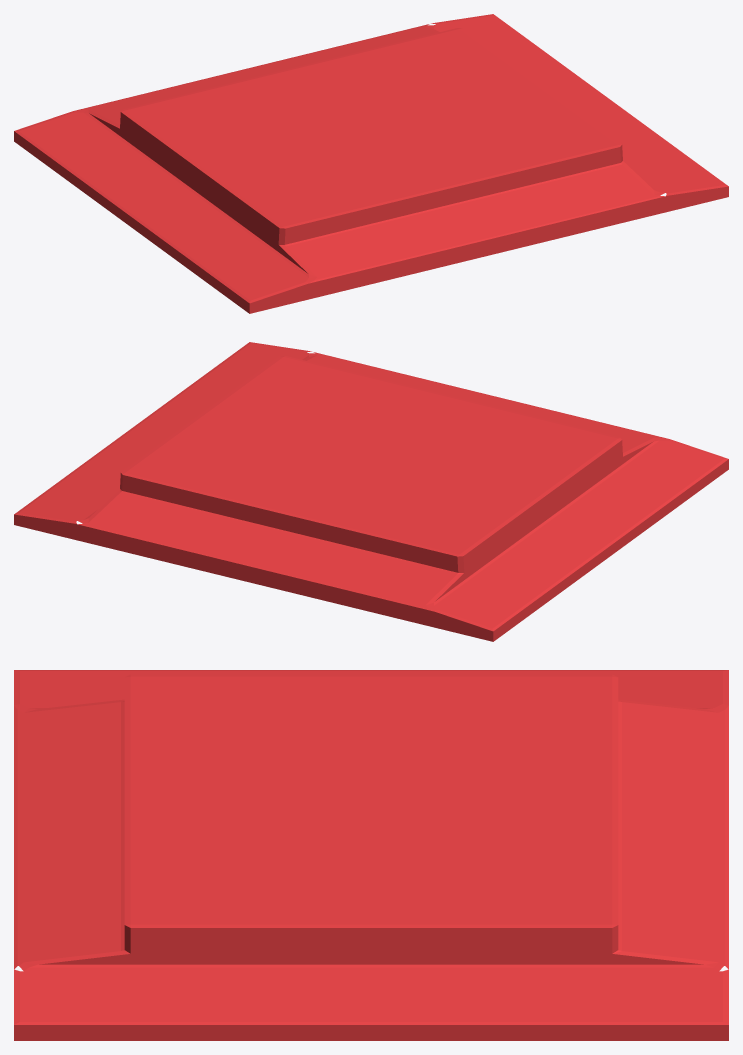
The model's file is monument_floor.gltf.
3 views of the same model, one above another, from view 1: azimuth 30°, elevation 25°; view 2: azimuth 150°, elevation 25°; view 3: azimuth 270°, elevation 25° (orthographic). The views are drawn at different scales.
Visible parts, largest first — view 1: Glass-Promontory; view 2: Glass-Promontory; view 3: Glass-Promontory.
Part boxes in pixels (box(x1,y1,x2,y2)): Glass-Promontory: box(14, 14, 728, 313); Glass-Promontory: box(14, 342, 728, 641); Glass-Promontory: box(14, 670, 728, 1040).
Bounding box in the file's own units: 12.91 × 1.06 × 10.99.
